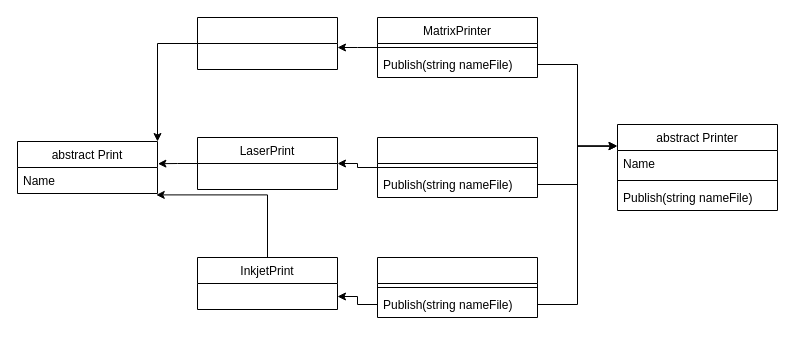
The diagram is 795 pixels wide and 338 high, and some of its shapes have lost their labels. Here are the shapes that lost their labels. From the top down, the box of each, then its label:
(196, 16, 338, 70): MatrixPrint
(376, 136, 538, 198): LaserPrinter
(376, 256, 538, 318): InkjetPrinter
